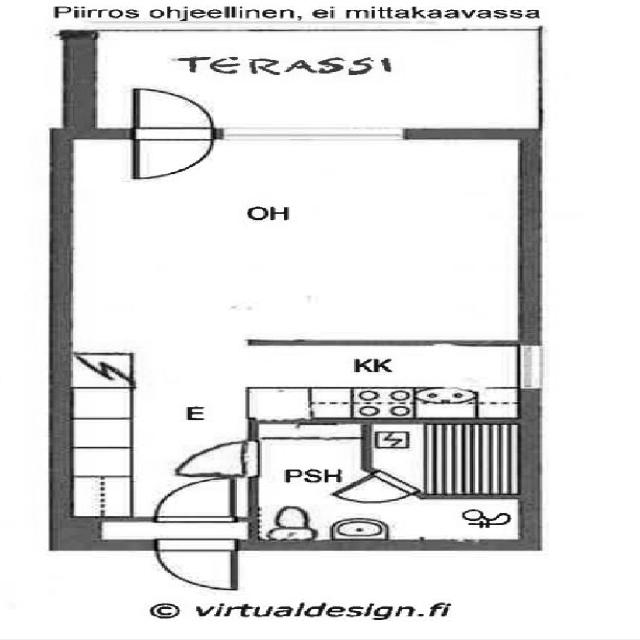door: (123, 86, 216, 180), (293, 471, 472, 515), (145, 473, 251, 526), (148, 535, 241, 594), (163, 438, 265, 482)
window: (215, 122, 422, 148), (509, 340, 549, 396)
zone: (63, 136, 543, 343), (58, 422, 525, 543), (62, 340, 523, 420)
